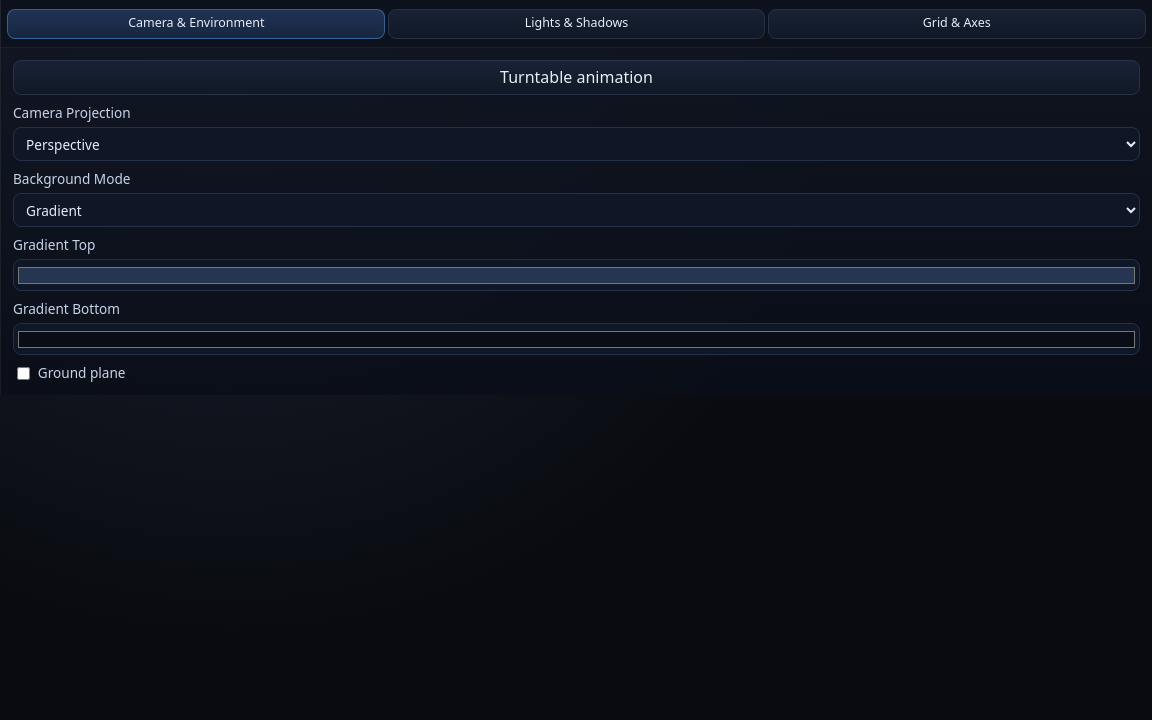
Test: RangeField numeric entry › shows orbit speed only while turntable animation is active
Click the button "Turntable animation" at (576, 78), box [13,60,1140,95]
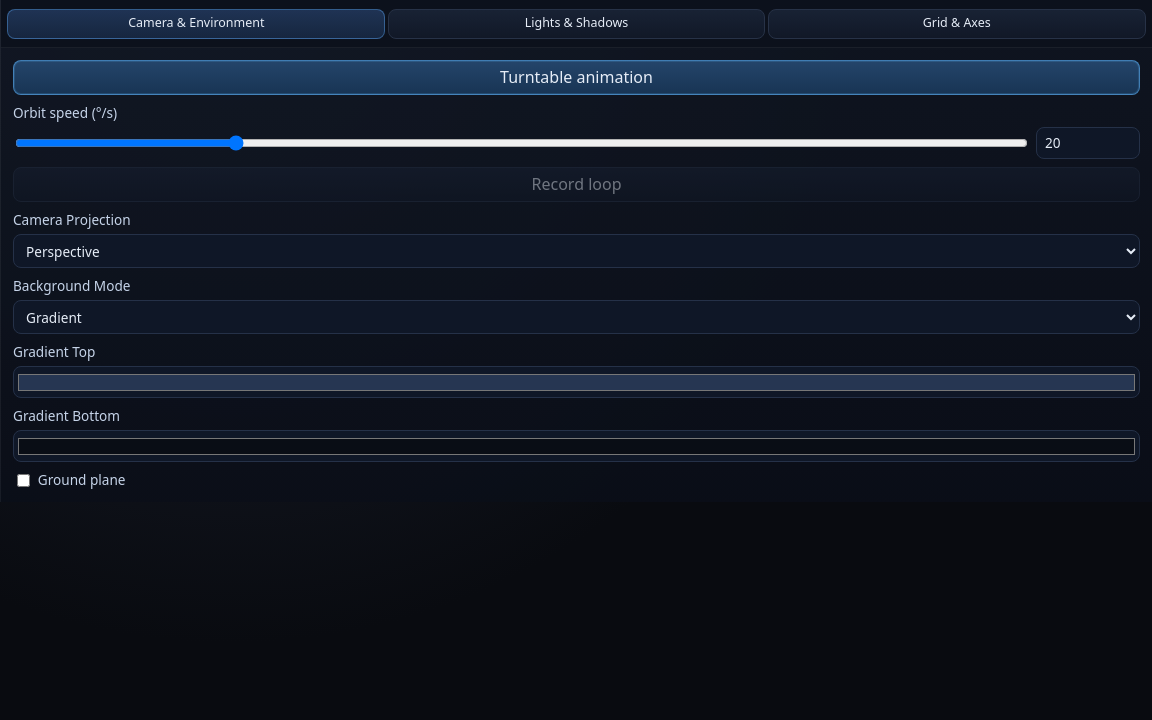
Expected: the button "Record loop" is disabled, [13,167,1140,202]
